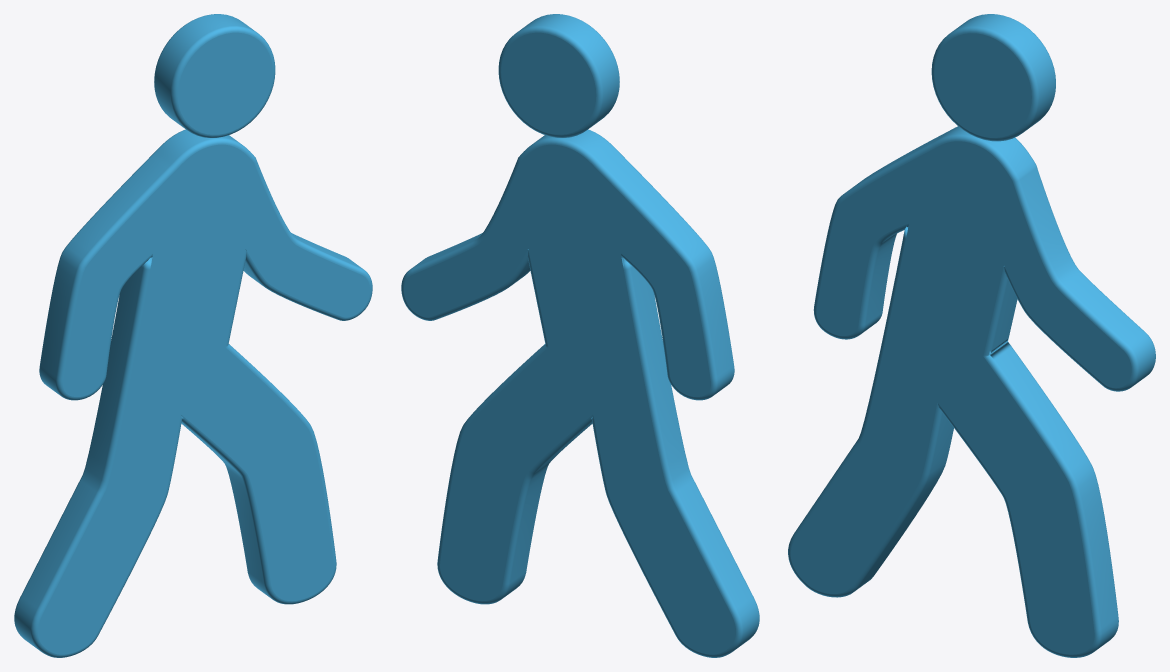
Rendered from walking_man.glb.
3 views of the same model, side by side, from view 1: azimuth 30°, elevation 25°; view 2: azimuth 150°, elevation 25°; view 3: azimuth 330°, elevation 25° (orthographic). The views are drawn at different scales.
Visible parts, largest first — view 1: path9347_3; view 2: path9347_3; view 3: path9347_3.
Part boxes in pixels (x1,y1,x2,y2): path9347_3: [14, 14, 372, 657]; path9347_3: [401, 14, 759, 657]; path9347_3: [788, 14, 1155, 657].
Bounding box in the file's own units: 1.76 × 2.93 × 0.1878.
